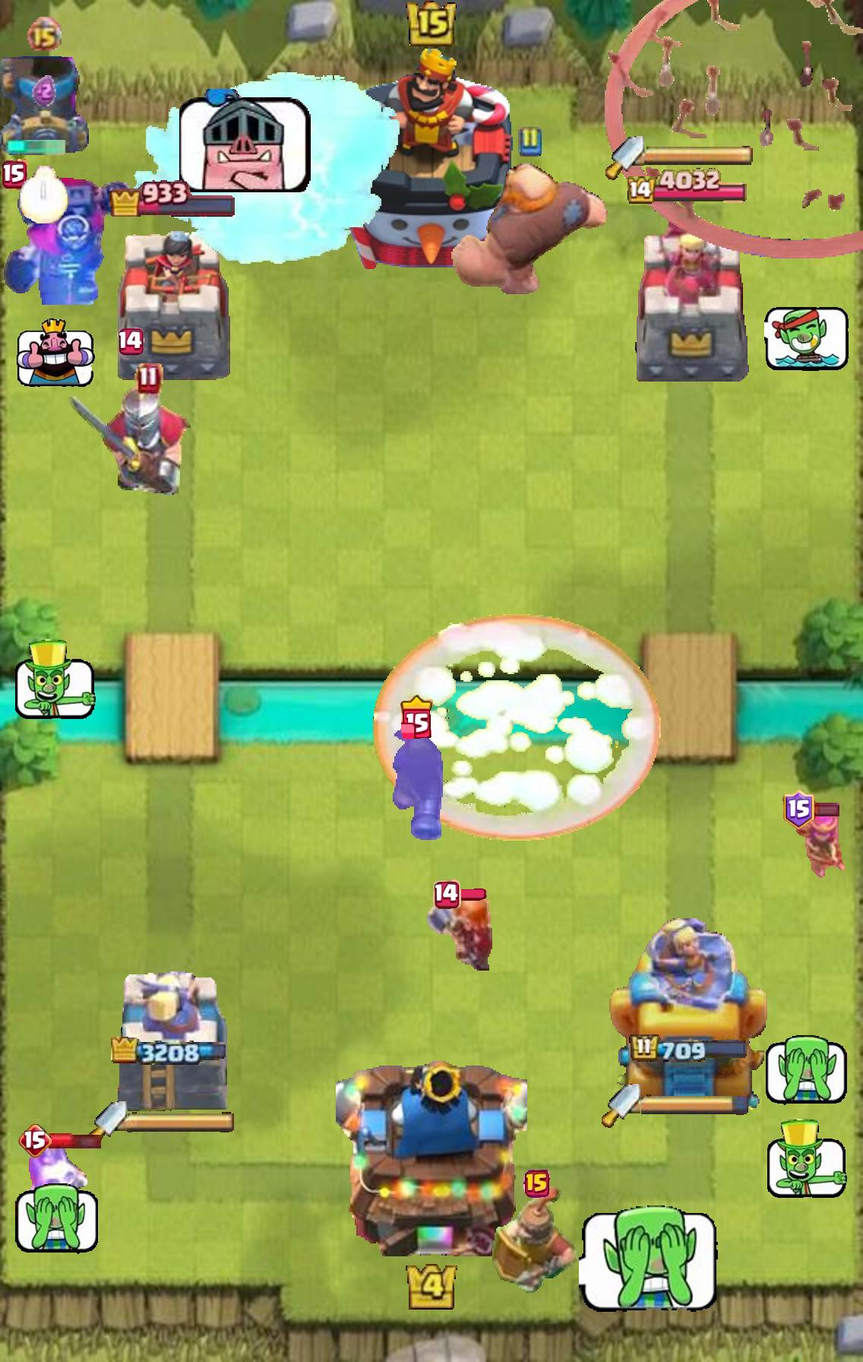elixir: (32, 76, 56, 107)
